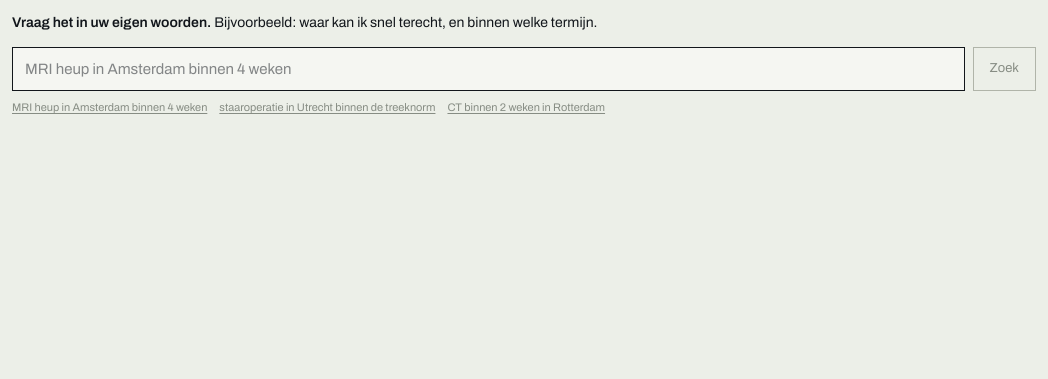
Assistant › says how many locations reported nothing rather than hiding them
Type "MRI heup Amsterdam" into the field labelled "Vraag het in uw eigen woorden".
click(488, 69); type("MRI heup Amsterdam")  # box [12,47,964,91]
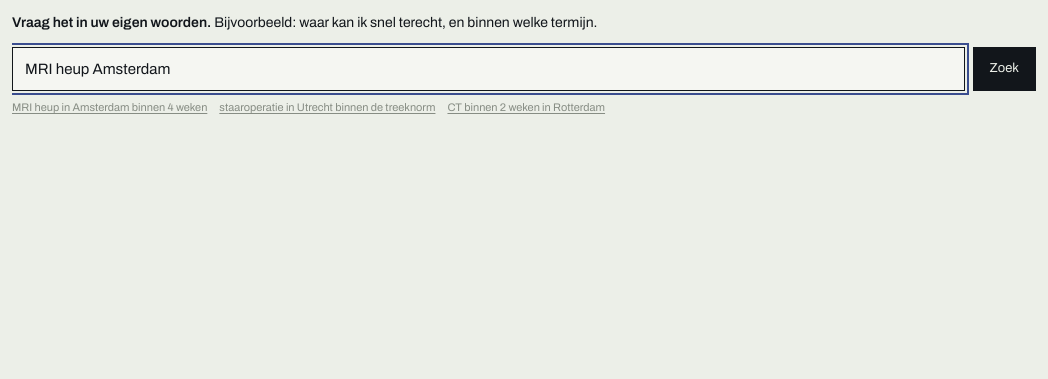
Click the button "Zoek".
click(1004, 69)  # box [972,47,1036,91]
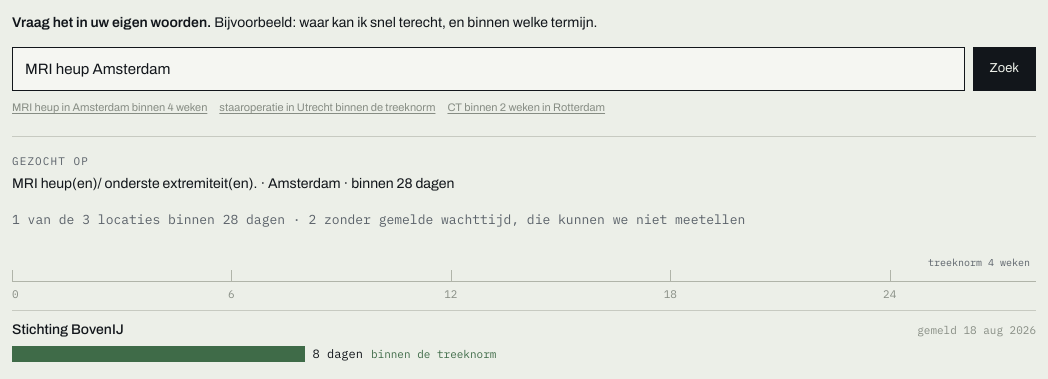
Expected: the text "2 zonder gemelde wachttijd" is shown, [285,211,745,228]
Expected: the text "1 van de 3" is shown, [12,211,745,228]
